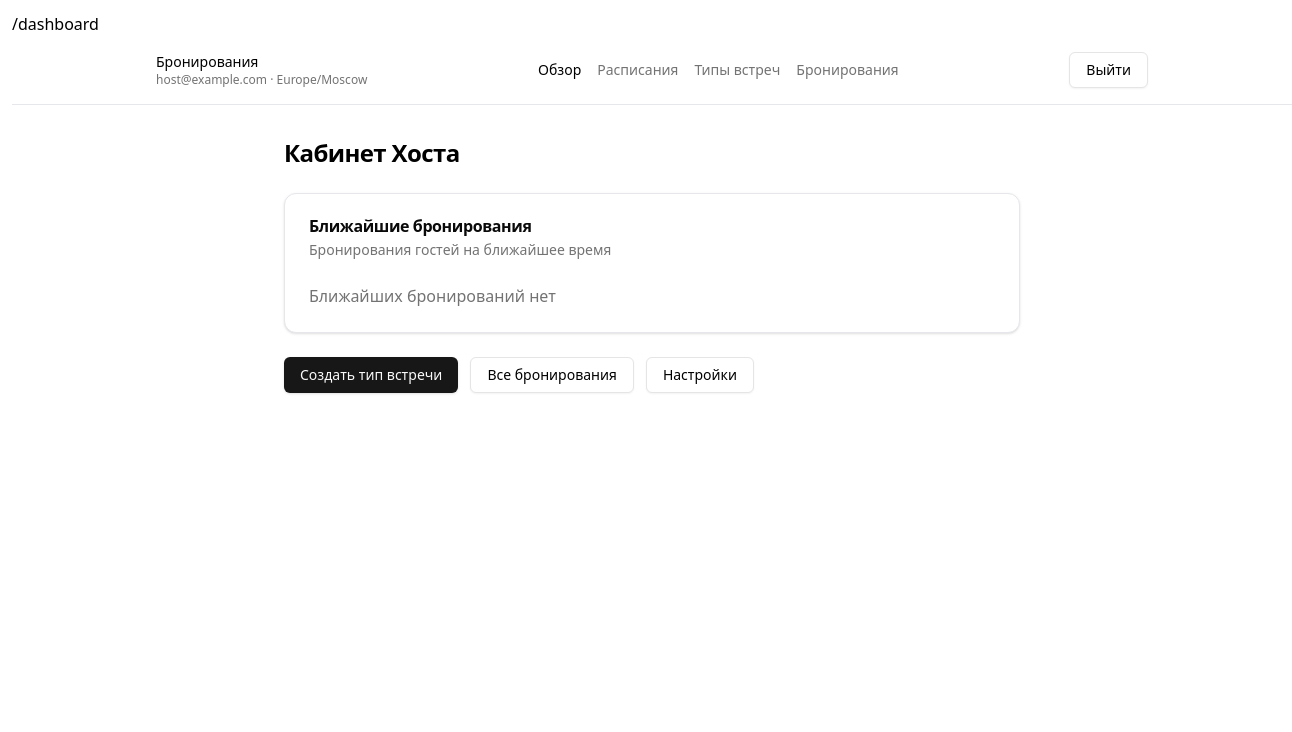
Test case: App auth flow › logs out and returns to the login page
The image size is (1292, 732).
expect the text "host@example.com" is shown: met, box top-left (156, 71), bottom-right (267, 88)
Click the button "Выйти" at (1109, 70), box top-left (1069, 52), bottom-right (1148, 88)
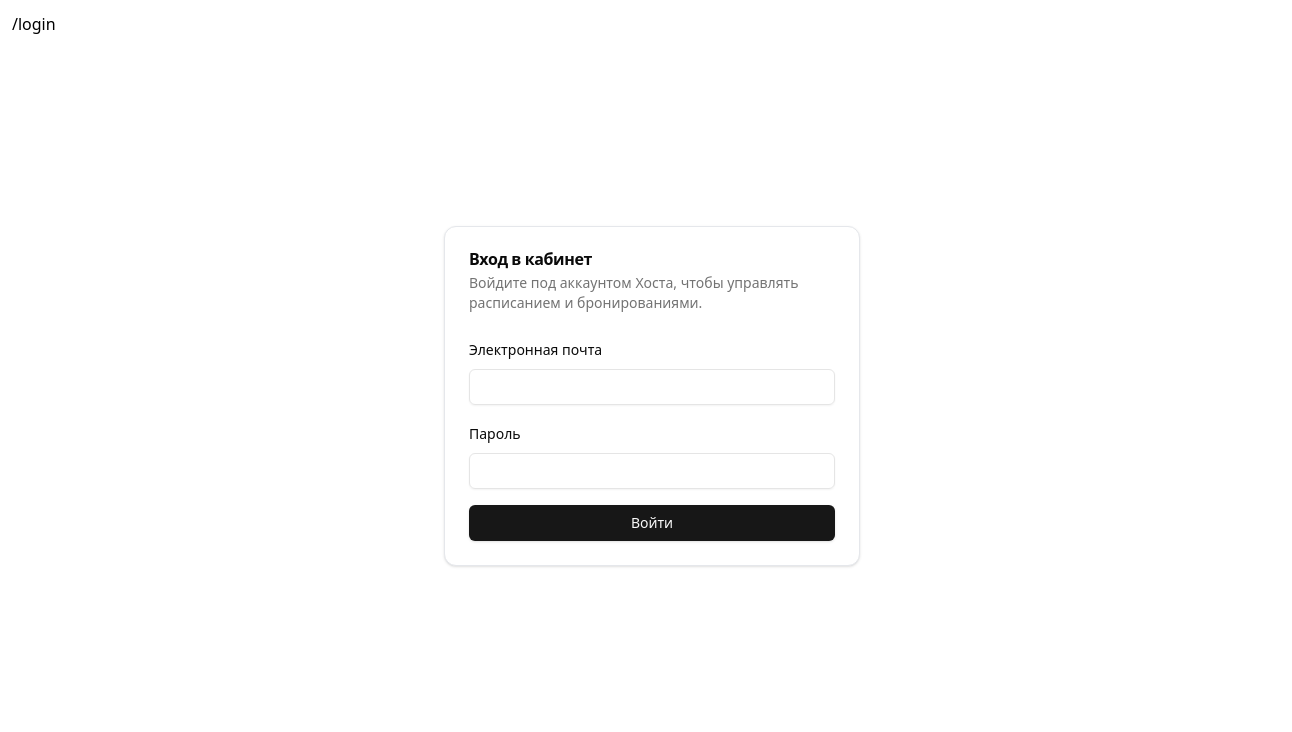
expect the heading "Вход в кабинет" is shown: met, box top-left (469, 248), bottom-right (592, 270)
